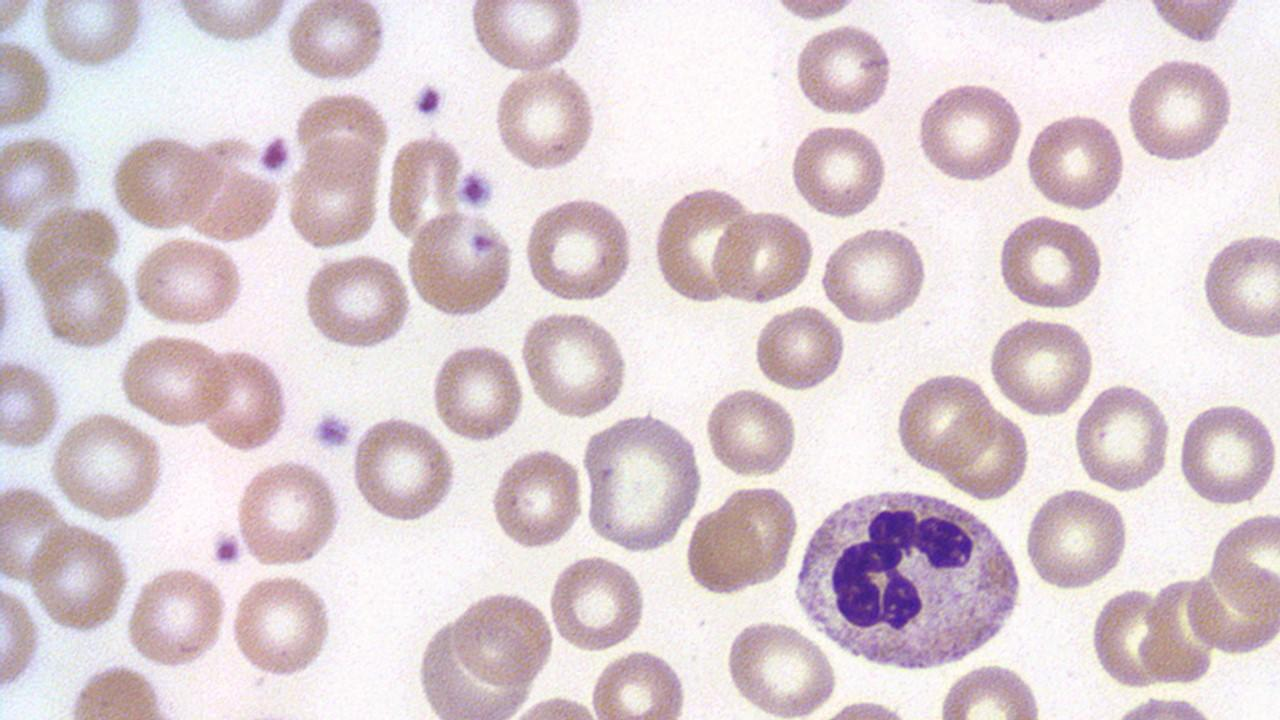Platelets: (310, 408, 354, 454), (456, 166, 497, 211), (257, 130, 294, 175), (410, 78, 447, 122), (209, 528, 246, 569)
RBC: (580, 410, 706, 554), (1122, 53, 1238, 165), (50, 412, 167, 521), (518, 308, 630, 421), (521, 194, 637, 303), (404, 207, 515, 319), (348, 414, 460, 524), (234, 457, 343, 570), (913, 78, 1024, 186), (651, 183, 750, 304), (492, 64, 600, 174), (985, 314, 1099, 418), (722, 616, 840, 716), (27, 522, 130, 636), (227, 572, 335, 680), (1022, 486, 1132, 592), (816, 225, 930, 327), (108, 132, 224, 232), (300, 251, 414, 352), (1174, 398, 1278, 508), (993, 212, 1107, 312), (123, 563, 229, 670), (1071, 381, 1173, 492), (118, 332, 235, 428), (1023, 109, 1129, 213), (448, 588, 556, 687), (710, 207, 818, 306), (132, 236, 248, 328), (892, 368, 993, 473), (19, 201, 125, 301), (790, 20, 896, 120), (428, 338, 526, 445), (786, 121, 890, 221), (488, 446, 586, 552), (545, 553, 650, 651), (286, 146, 384, 250), (1198, 225, 1280, 343), (200, 348, 291, 452), (704, 384, 800, 480), (385, 128, 464, 244), (938, 405, 1032, 502), (466, 0, 588, 74), (751, 302, 847, 396), (282, 2, 390, 85), (39, 257, 134, 350), (1088, 584, 1172, 689), (1141, 573, 1219, 685), (0, 135, 82, 234), (182, 167, 287, 243), (720, 481, 799, 582), (1209, 508, 1279, 618), (683, 504, 763, 598), (587, 646, 690, 719), (40, 1, 146, 70), (0, 481, 68, 586), (932, 660, 1048, 716), (0, 354, 64, 453), (172, 0, 292, 46), (0, 37, 56, 132), (0, 578, 43, 698), (988, 0, 1116, 28), (763, 0, 863, 24), (0, 246, 19, 363)
WBC: (786, 477, 1029, 675)
